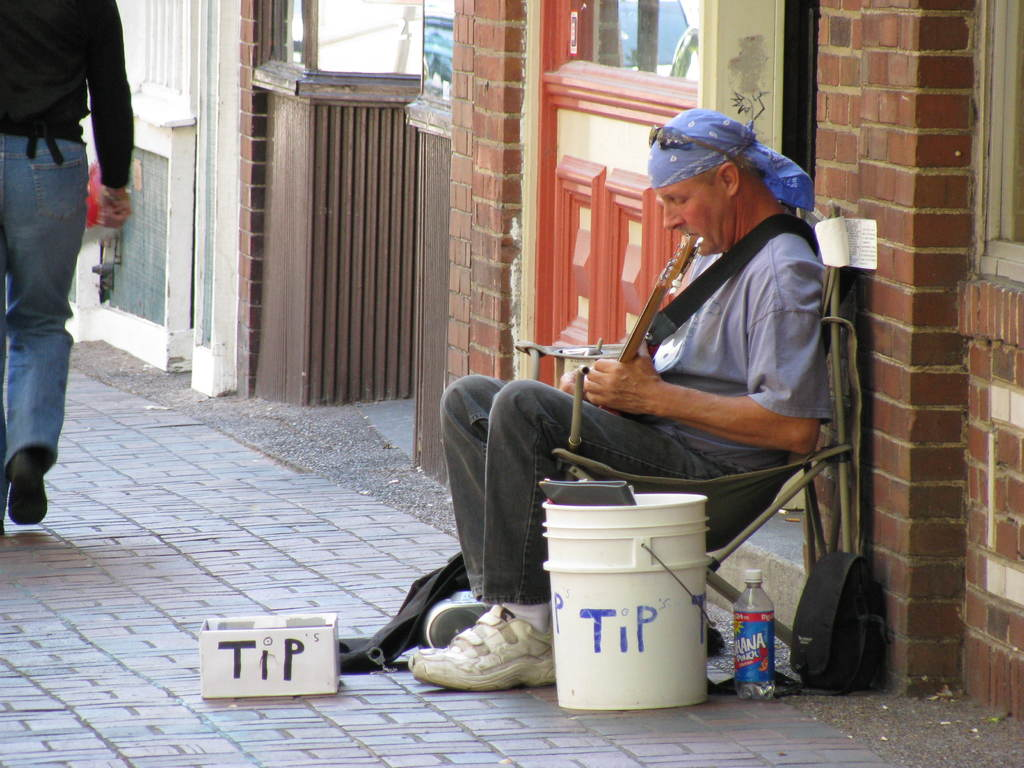Person: (0, 0, 135, 535)
